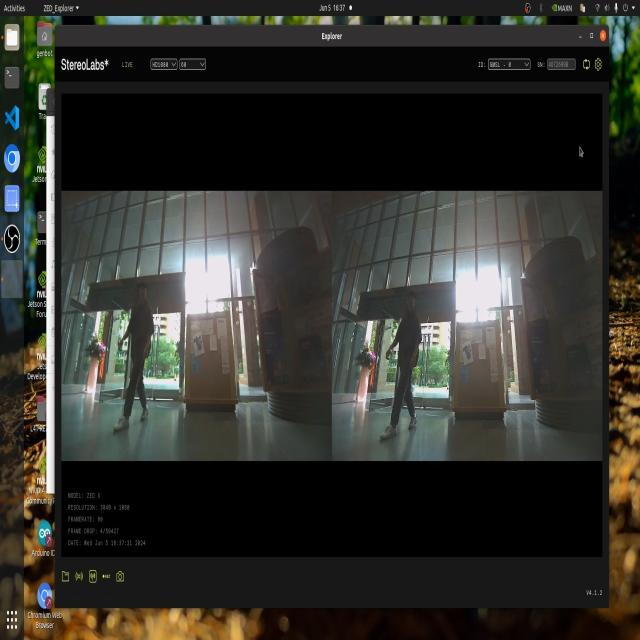blue: (193, 332, 204, 357), (460, 342, 472, 360)
